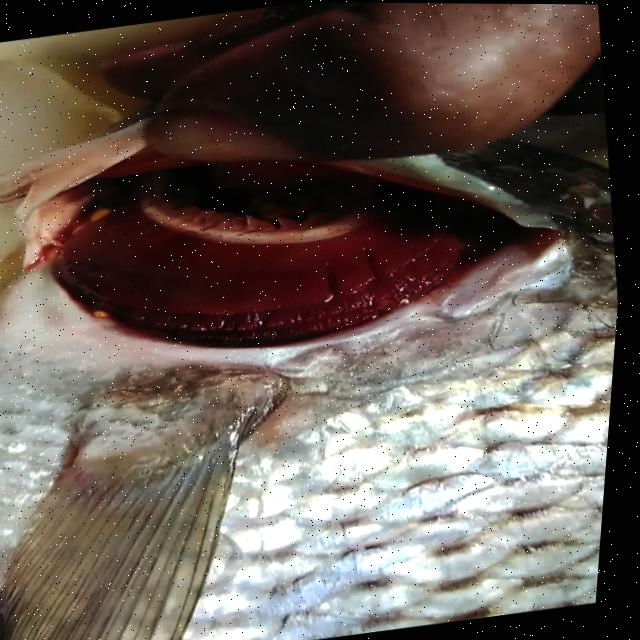Fresh: (6, 114, 571, 389)
